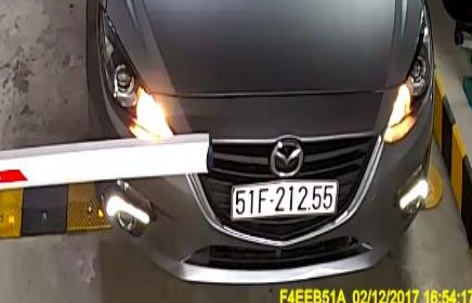plate: (229, 180, 338, 219)
